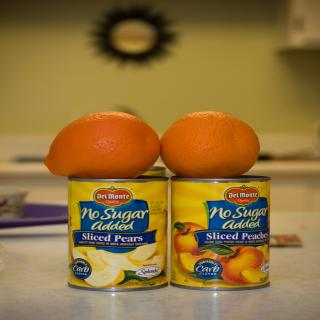Orange: (44, 110, 161, 179), (162, 110, 262, 176)
